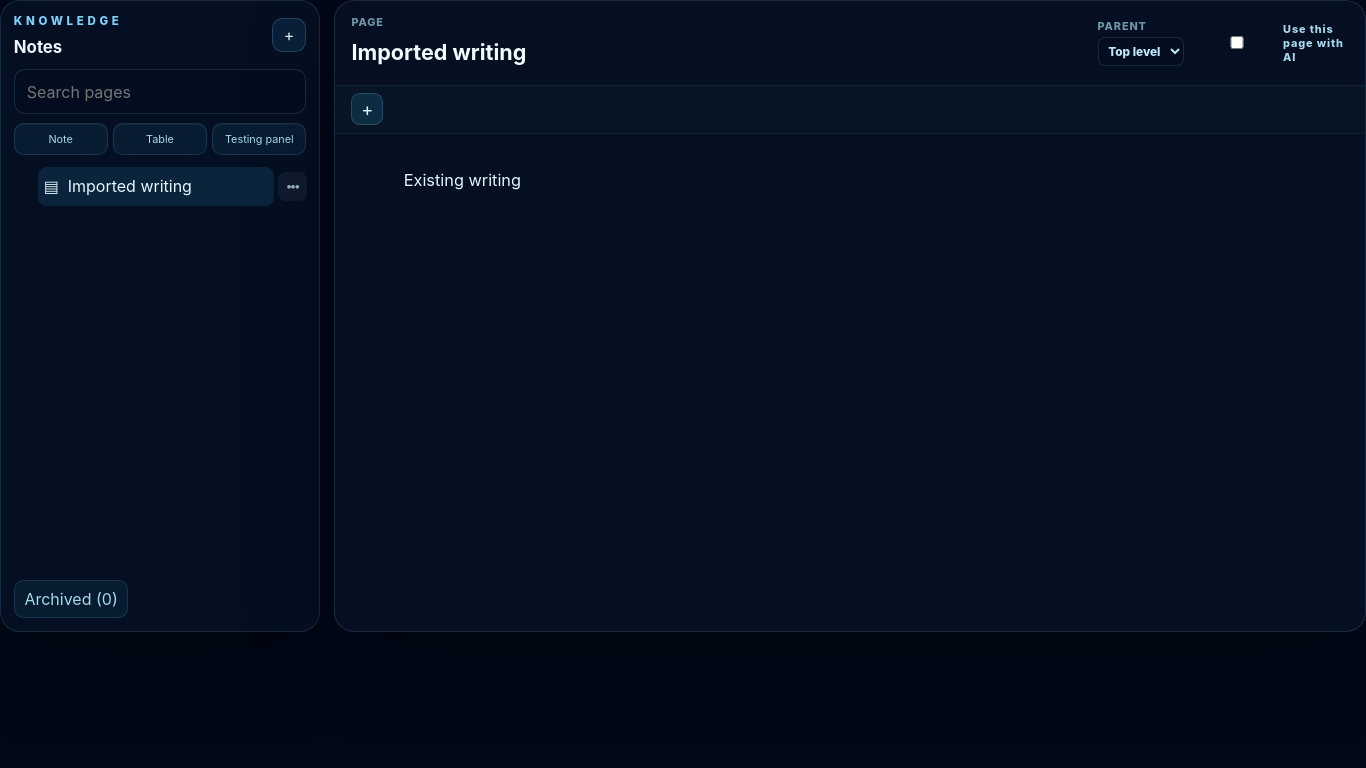
Notes workspace › opens page actions without leaving the active page and changes the page icon
Click the button "Note": (61, 139) [14,123,108,155]
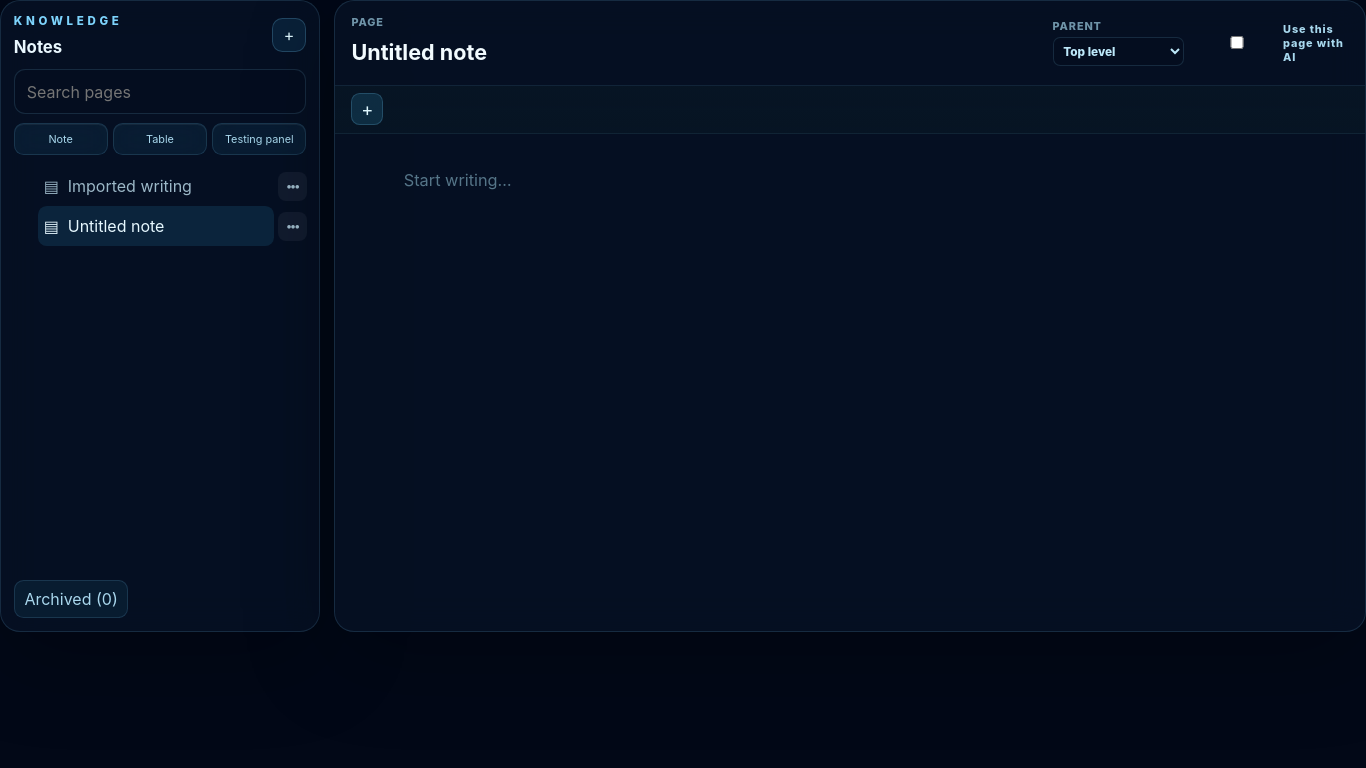
Result: the field named "Page title" holds "Untitled note" at [351,33,696,70]
Click the button named "Page actions for Imported writing": (293, 186) [278,172,307,201]
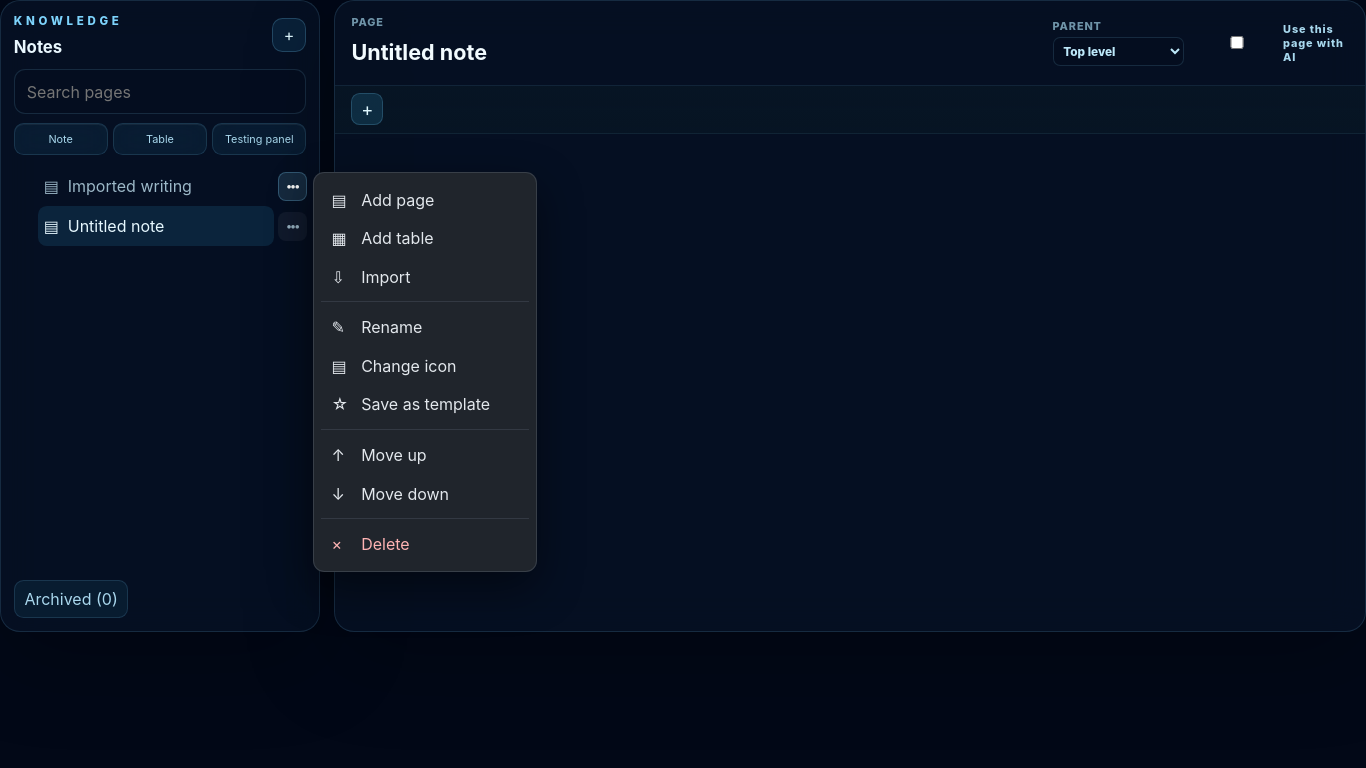
Result: the field named "Page title" holds "Untitled note" at [351,33,696,70]
Click the menu item "▤ Change icon": (425, 366) [321,347,529,385]
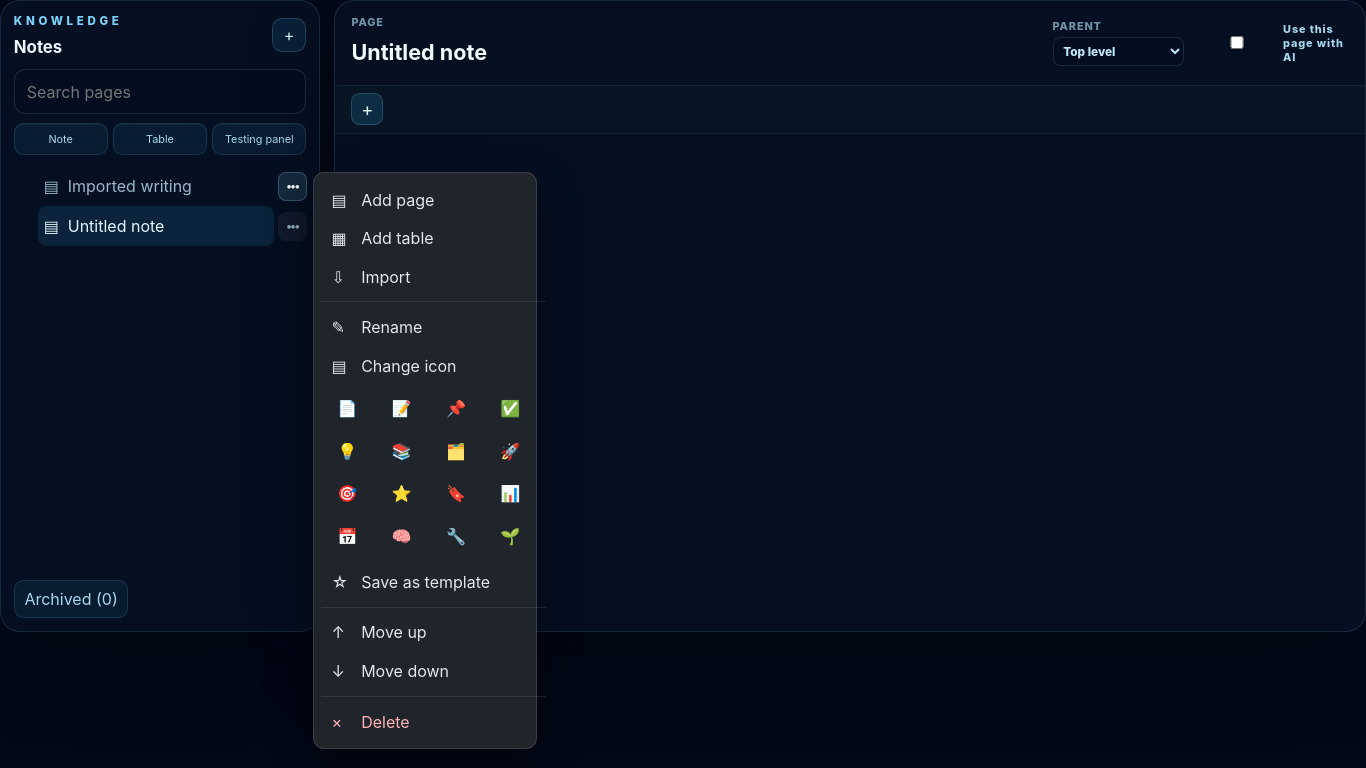
Click the button named "Use 📌 icon": (461, 408) [436,389,486,428]
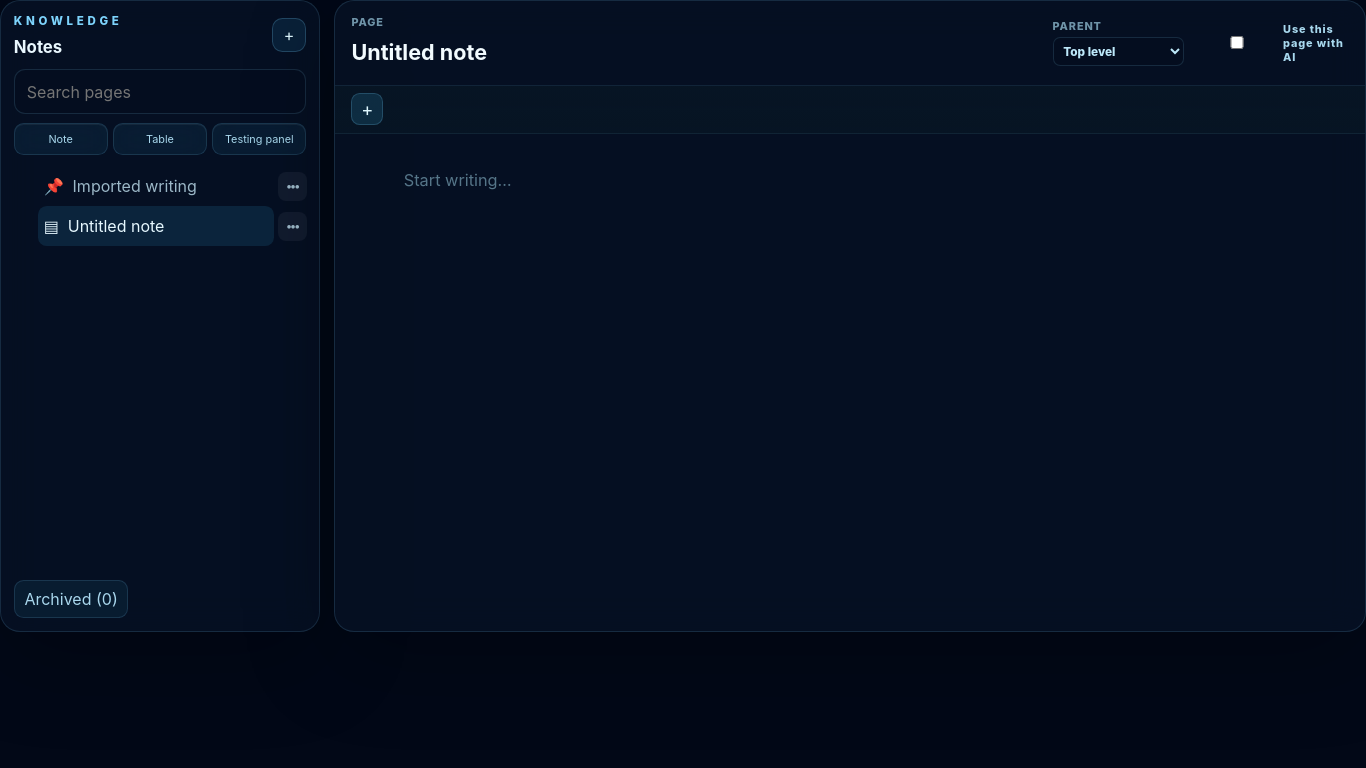
Result: the field named "Page title" holds "Untitled note" at [351,33,696,70]
Result: the button "📌 Imported writing" is shown at [38,167,274,206]
